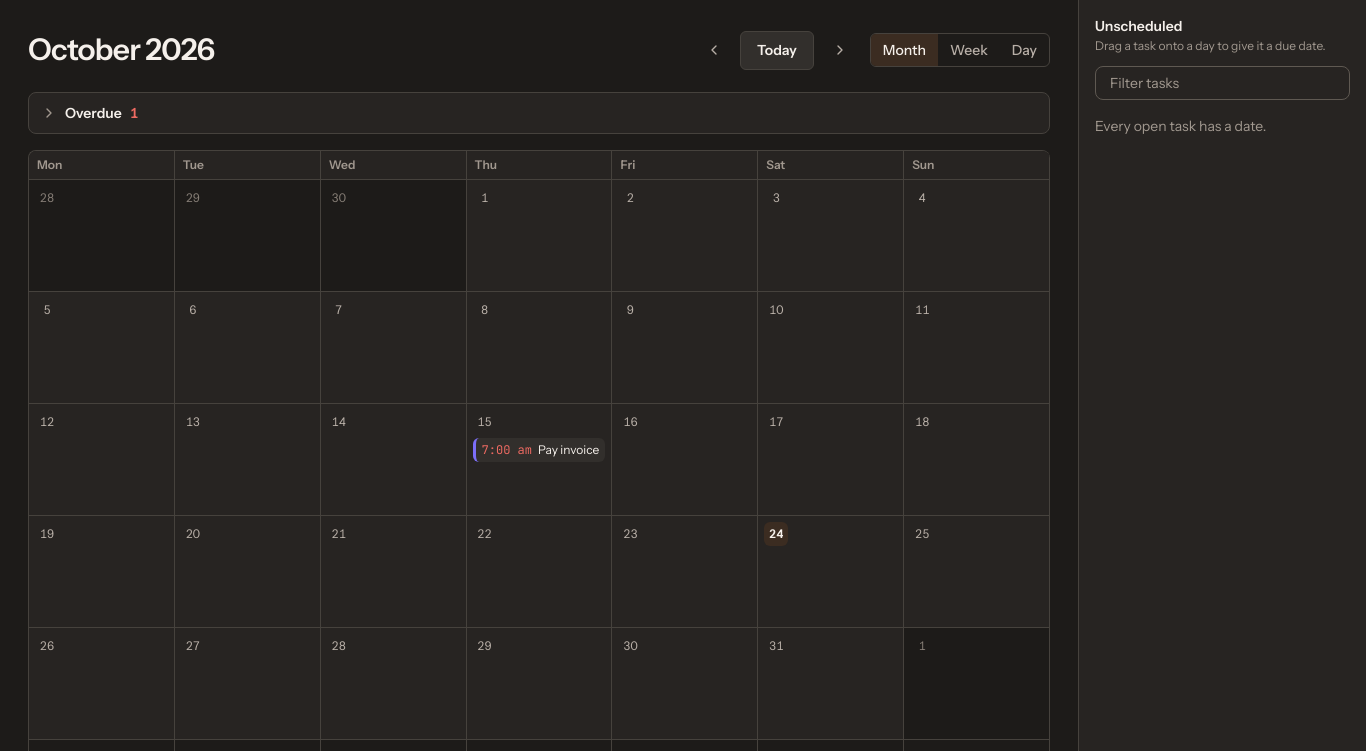
Test: CalendarView: week, overdue, tray › lists overdue tasks, collapsed in month view and open in week view
This screenshot has width=1366, height=751.
Click the button "Overdue 1" at point(93, 113), box [29,93,1049,133]
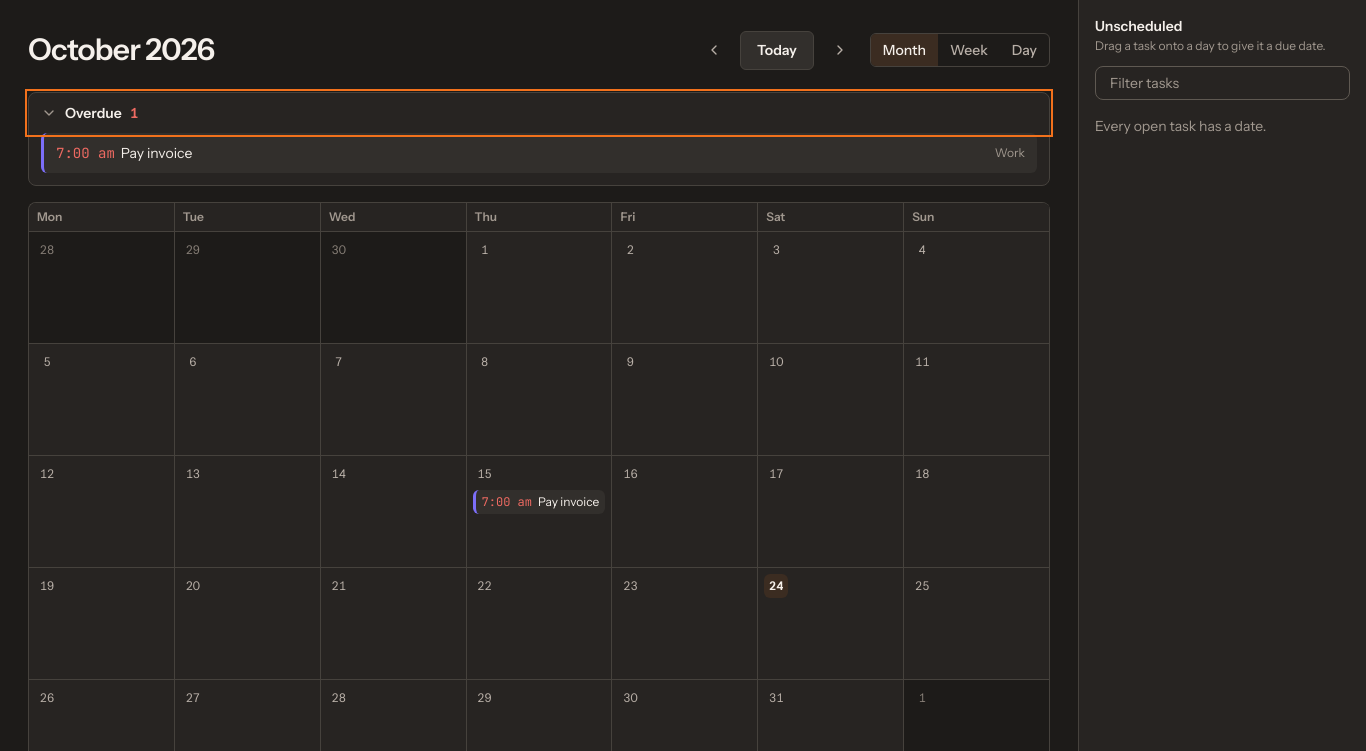
Now the 1st text "Pay invoice" is shown, box [121,144,192,162]
Click the button "Overdue 1" at point(93, 113), box [29,93,1049,133]
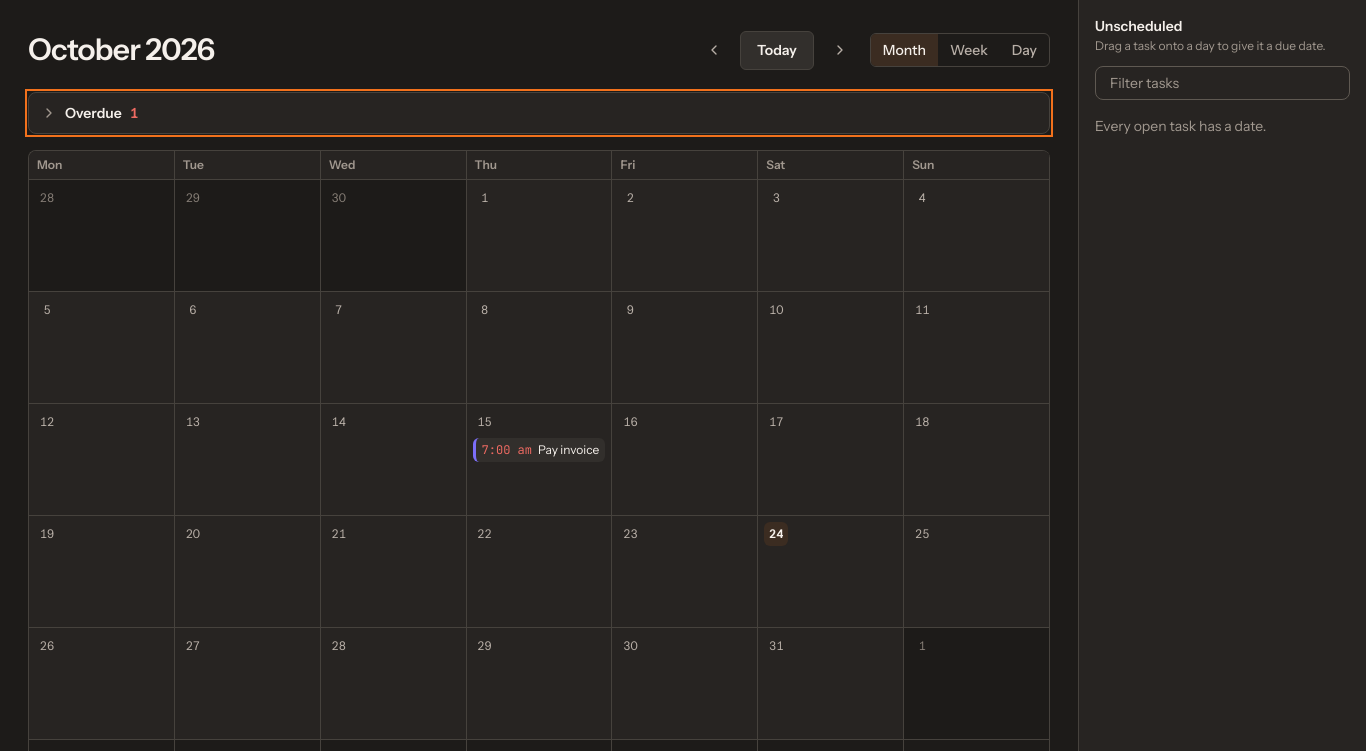
Click the button "Week" at point(969, 50), box [938,34,1000,66]
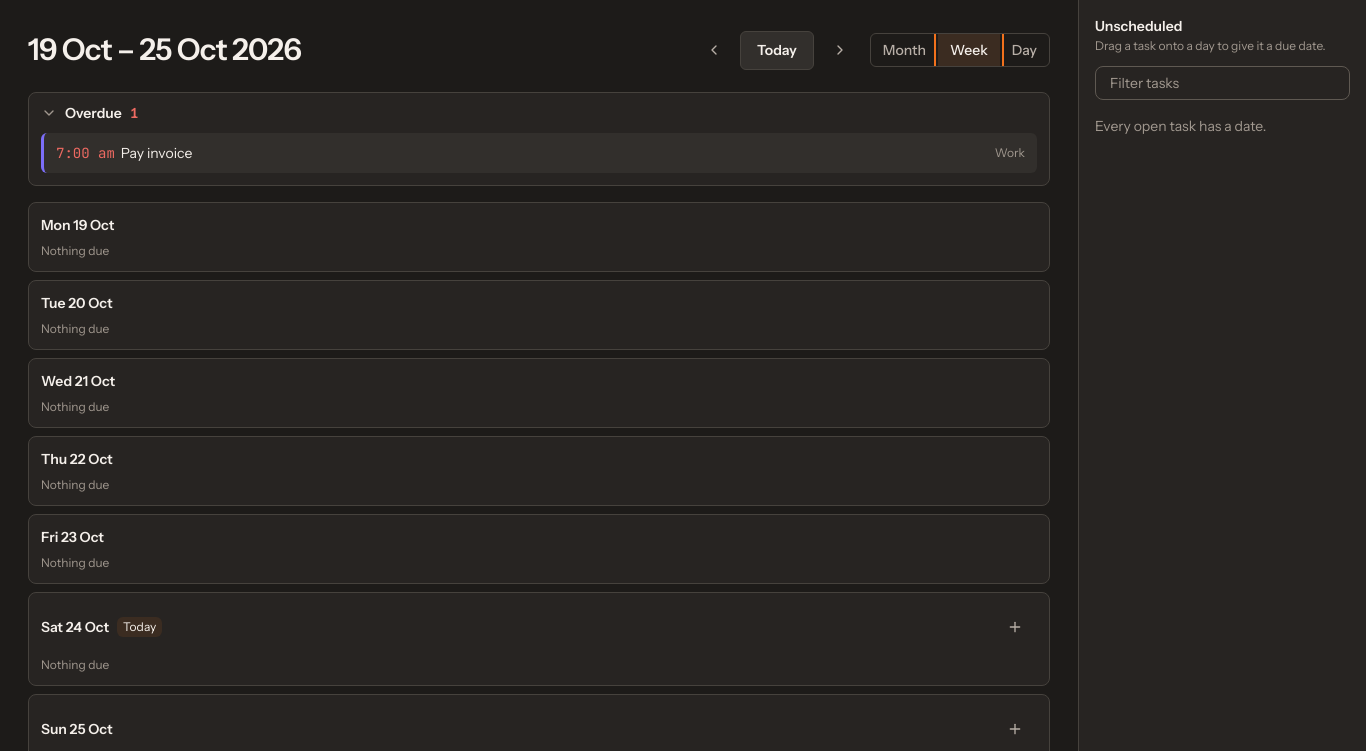
Now the button "Overdue 1" is expanded, box [29,93,1049,133]
